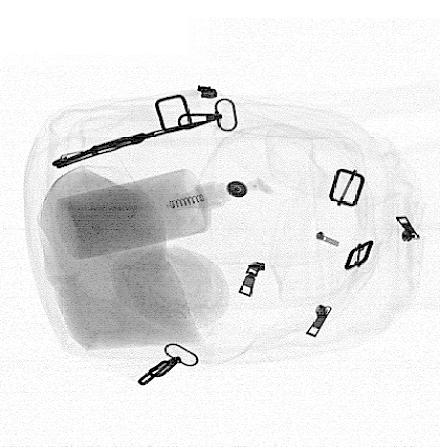Knife: (52, 120, 209, 169)
